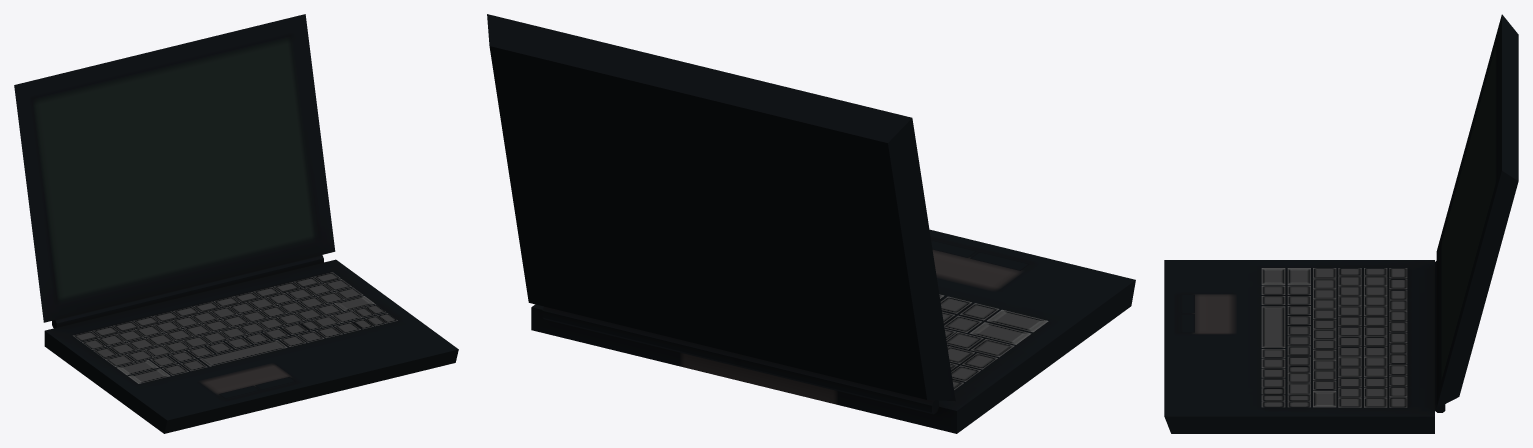
The model's file is sb_obj_ModernCity036_note_pc.fbx.
The picture shows the model from 3 angles, left to right: view 1: azimuth 30°, elevation 25°; view 2: azimuth 150°, elevation 25°; view 3: azimuth 270°, elevation 25°; orthographic projection. The views are drawn at different scales.
Parts seen in each view (by area): view 1: sb_obj_ModernCity036_note_pc; view 2: sb_obj_ModernCity036_note_pc; view 3: sb_obj_ModernCity036_note_pc.
Boxes of the visible parts, box(x1,y1,x2,y2) form: sb_obj_ModernCity036_note_pc: box(14, 14, 458, 433); sb_obj_ModernCity036_note_pc: box(487, 14, 1135, 433); sb_obj_ModernCity036_note_pc: box(1164, 14, 1518, 433).
Size of the model in its own units: 0.4723 by 0.37 by 0.4512.
Materials: 1 (1 with a texture image).
